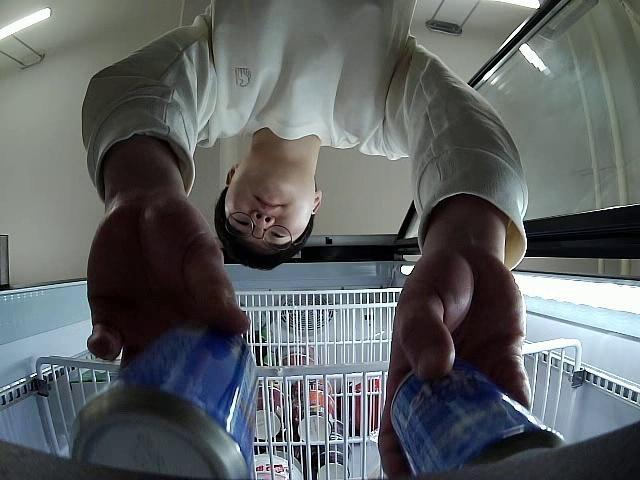15_letsbe: (65, 318, 261, 480), (388, 355, 568, 480)
